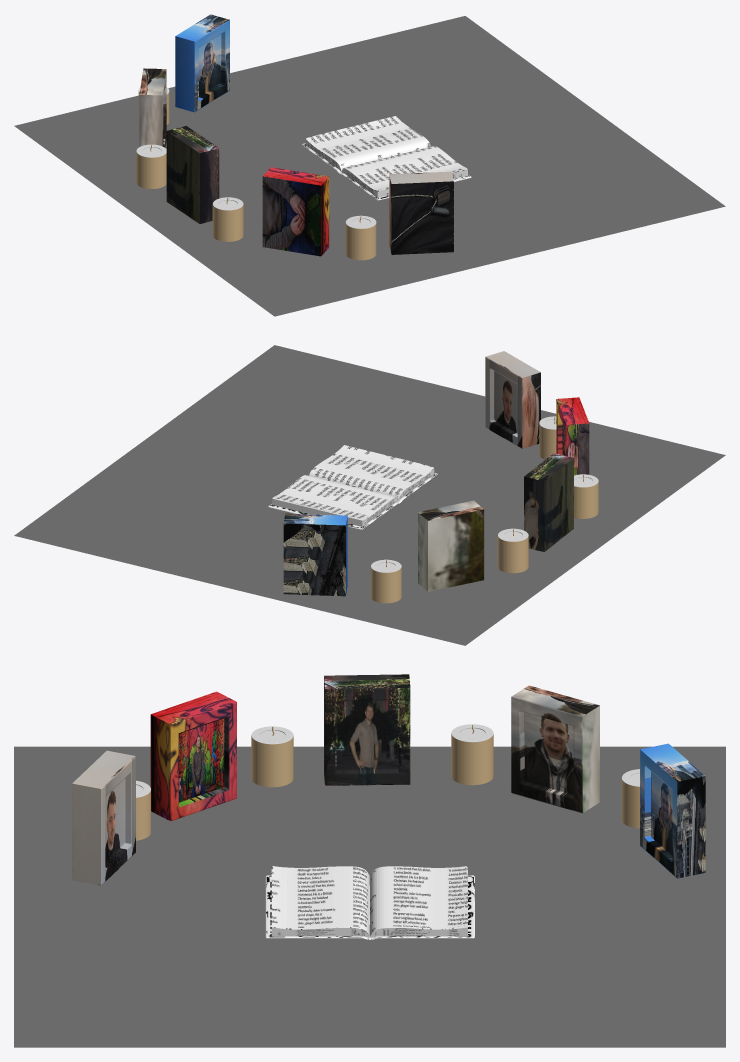
File: firstattempt.glb
The picture shows the model from 3 angles, top to bottom: view 1: azimuth 30°, elevation 25°; view 2: azimuth 150°, elevation 25°; view 3: azimuth 270°, elevation 25°; orthographic projection. The views are drawn at different scales.
Visible parts, largest first — view 1: Plane, Book OBJ, Cube.001, Cube.006, Cube.004, Cube.002, Cube.003, Candle.001, Candle.002, Candle; view 2: Plane, Book OBJ, Cube.003, Cube.004, Cube.006, Cube.002, Cube.001, Candle, Candle.003, Candle.001, Candle.002; view 3: Plane, Book OBJ, Cube.003, Cube.002, Cube.001, Cube.004, Cube.006, Candle.001, Candle, Candle.003, Candle.002.
Boxes of the visible parts, x1=… form: Plane: x1=14, y1=16, x2=725, y2=316; Book OBJ: x1=302, y1=116, x2=471, y2=200; Cube.001: x1=262, y1=167, x2=329, y2=256; Cube.006: x1=389, y1=171, x2=453, y2=254; Cube.004: x1=175, y1=14, x2=229, y2=112; Cube.002: x1=166, y1=126, x2=219, y2=223; Cube.003: x1=139, y1=68, x2=166, y2=147; Candle.001: x1=212, y1=197, x2=243, y2=241; Candle.002: x1=345, y1=215, x2=376, y2=260; Candle: x1=136, y1=144, x2=166, y2=188; Plane: x1=14, y1=345, x2=725, y2=645; Book OBJ: x1=268, y1=445, x2=437, y2=529; Cube.003: x1=418, y1=500, x2=484, y2=591; Cube.004: x1=283, y1=513, x2=347, y2=596; Cube.006: x1=485, y1=351, x2=540, y2=448; Cube.002: x1=524, y1=453, x2=573, y2=551; Cube.001: x1=556, y1=397, x2=589, y2=475; Candle: x1=497, y1=528, x2=528, y2=573; Candle.003: x1=371, y1=559, x2=401, y2=603; Candle.001: x1=574, y1=474, x2=598, y2=518; Candle.002: x1=539, y1=416, x2=556, y2=459; Plane: x1=14, y1=746, x2=725, y2=1047; Book OBJ: x1=265, y1=866, x2=474, y2=939; Cube.003: x1=511, y1=685, x2=599, y2=813; Cube.002: x1=324, y1=674, x2=410, y2=785; Cube.001: x1=150, y1=691, x2=236, y2=821; Cube.004: x1=640, y1=743, x2=705, y2=878; Cube.006: x1=72, y1=750, x2=135, y2=885; Candle.001: x1=251, y1=726, x2=293, y2=787; Candle: x1=451, y1=724, x2=493, y2=785; Candle.003: x1=621, y1=769, x2=639, y2=828; Candle.002: x1=136, y1=780, x2=150, y2=840.
Bounding box in the file's own units: 2 × 0.3039 × 2.
9 materials, 6 textured.
